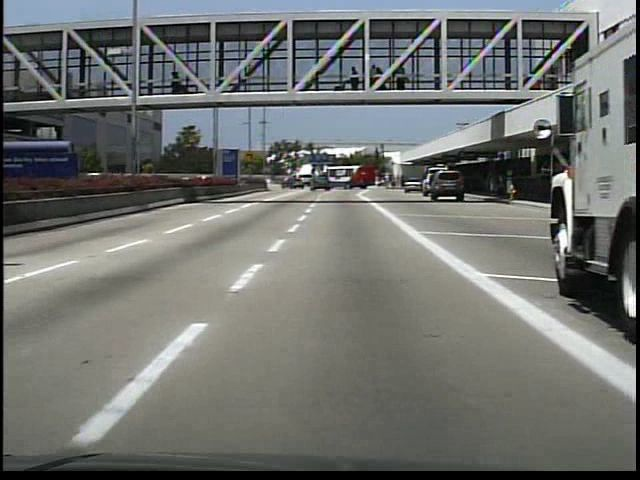person: (347, 62, 364, 94), (170, 69, 187, 96), (487, 170, 502, 200)
